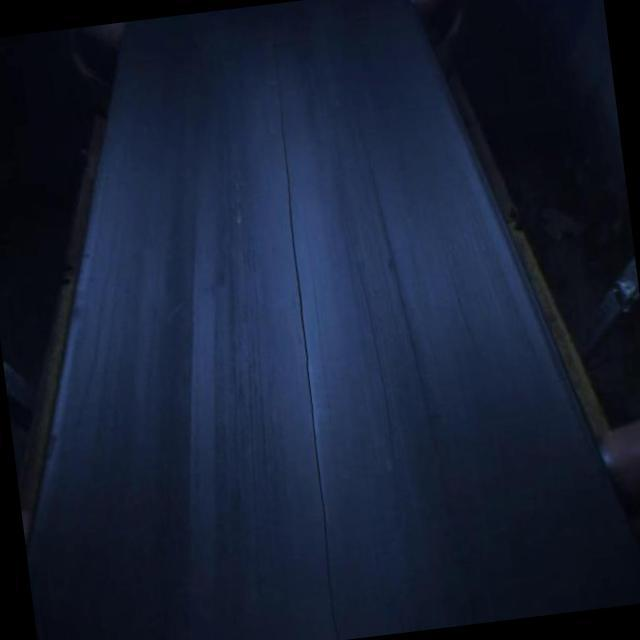Tear: (264, 65, 344, 640)
